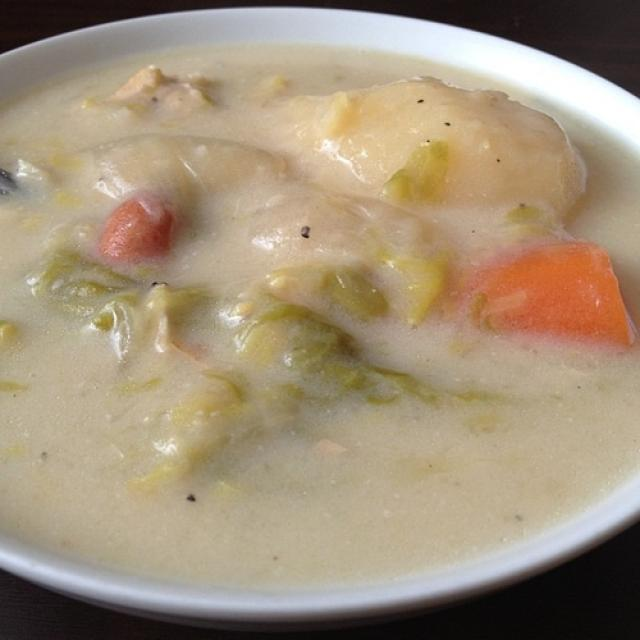汤锅炖物: (5, 23, 627, 604)
